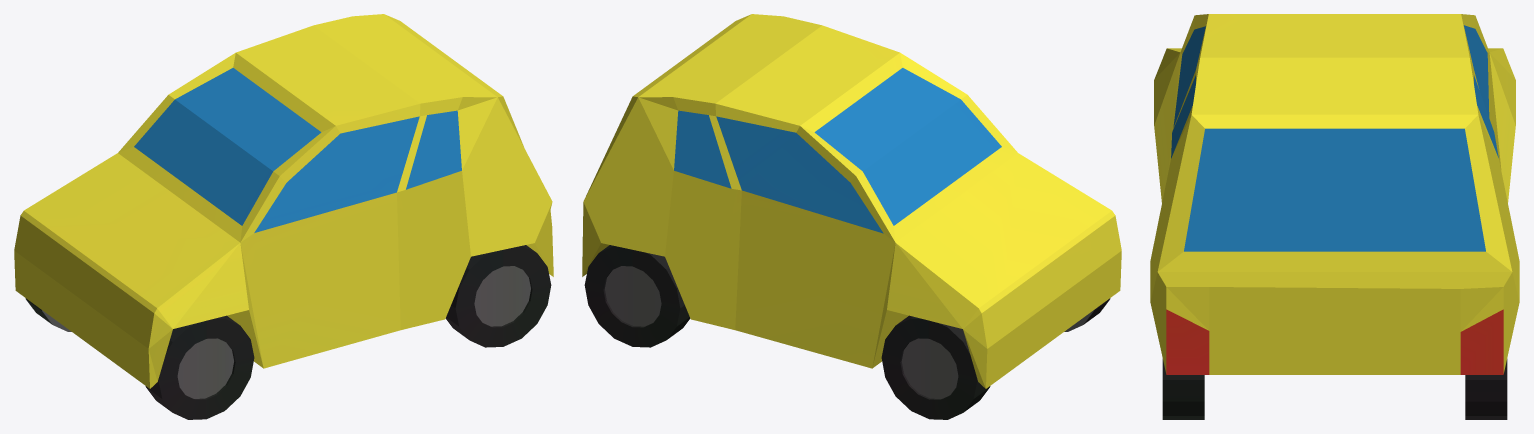
File: MicroCar.fbx
3 renders of one model, left to right at view 1: azimuth 30°, elevation 25°; view 2: azimuth 150°, elevation 25°; view 3: azimuth 270°, elevation 25°, orthographic. The views are drawn at different scales.
Visible parts, largest first — view 1: MircoBodyColor, MircoBody, MicroTires; view 2: MircoBodyColor, MircoBody, MicroTires; view 3: MircoBodyColor, MircoBody, MicroTires.
Part boxes in pixels (box(x1,y1,x2,y2)): MircoBodyColor: box(14, 14, 553, 388); MircoBody: box(14, 68, 461, 348); MicroTires: box(25, 245, 551, 419); MircoBodyColor: box(582, 14, 1121, 388); MircoBody: box(674, 68, 1121, 348); MicroTires: box(584, 245, 1110, 419); MircoBodyColor: box(1150, 14, 1519, 374); MircoBody: box(1166, 25, 1503, 374); MicroTires: box(1162, 359, 1507, 419).
Size of the model in its own units: 185 by 109 by 116.
